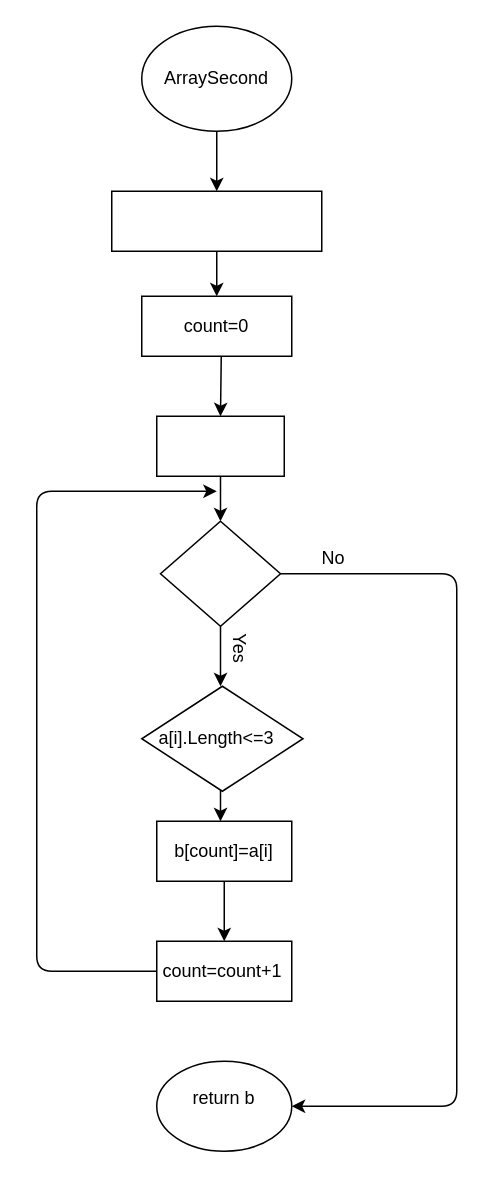
Some shapes in this 495 by 1178 pixel diagram are drawn without their labels. Here are the shapes that lost their labels. From the top down, the centre of each, then its label:
the point at 216,220: [ ] b=new string[a.Length]
the point at 219,445: i=0
the point at 219,573: i<a.Length
